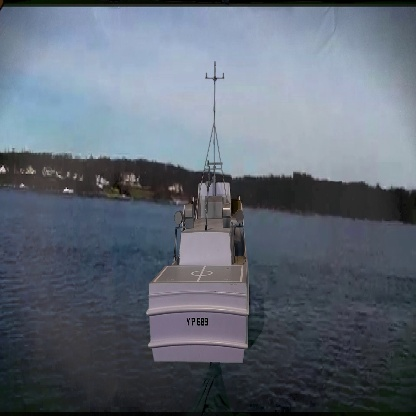YP689: (145, 59, 252, 365)
